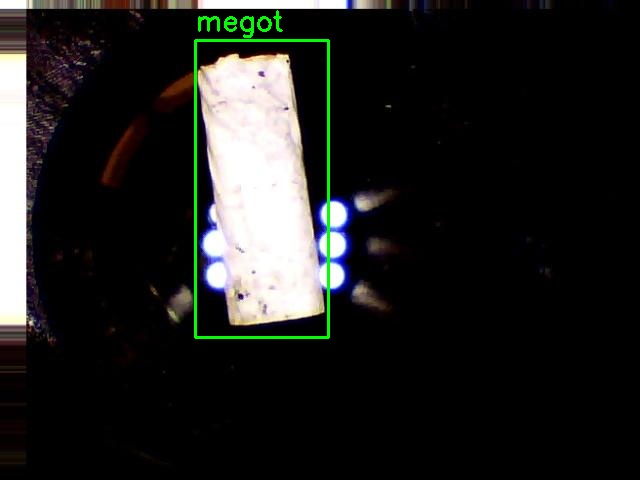megot: (195, 40, 328, 337)
